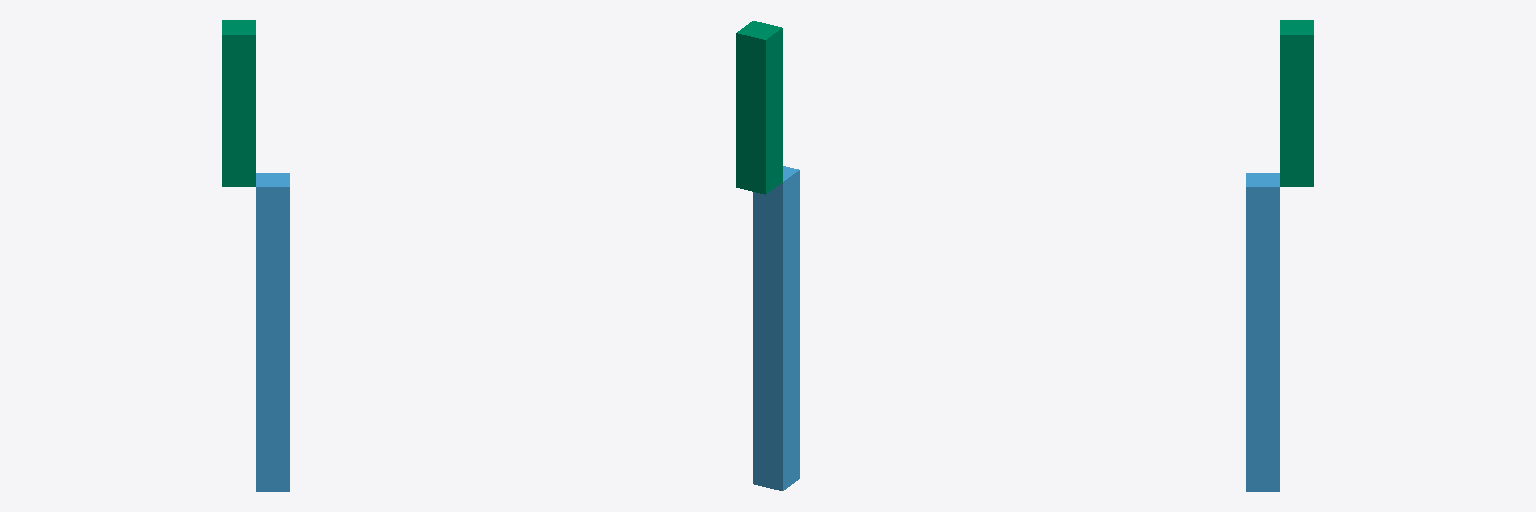
robot.urdf — arm_robot:
<?xml version="1.0"?>
<robot name="arm_robot">

  <link name="world"/>
  <joint name="base_joint" type="fixed">
    <parent link="world"/>
    <child link="base_link"/> 
  </joint>

  <link name="base_link">
    <inertial>
      <origin xyz="0 0 0.5" rpy="0 0 0"/>
      <mass value="1.0"/>
      <inertia ixx="1.0" ixy="0.0" ixz="0.0" iyy="1.0" iyz="0.0" izz="1.0"/>
    </inertial>
    <visual>
      <origin xyz="0 0 0.5" rpy="0 0 0"/>
      <geometry>
        <box size="0.1 0.1 1.0"/>
      </geometry>
    </visual>
    <collision>
      <origin xyz="0 0 0.5" rpy="0 0 0"/>
      <geometry>
        <box size="0.1 0.1 1.0"/>
      </geometry>
    </collision>
  </link>
  <gazebo reference="base_link">
    <material>Gazebo/Red</material>
  </gazebo>

  <joint name="arm1_joint" type="continuous">
    <parent link="base_link"/>
    <child link="arm1_link"/>
    <axis xyz="0 1 0"/>
    <origin xyz="0 0.1 1.0" rpy="0 0 0"/>
    <dynamics damping="0.1"/>
  </joint>
  <transmission name="arm1_trans">
    <type>transmission_interface/SimpleTransmission</type>
    <joint name="arm1_joint">
      <hardwareInterface>hardware_interface/EffortJointInterface</hardwareInterface>
    </joint>
    <actuator name="arm1_motor">
       <hardwareInterface>hardware_interface/EffortJointInterface</hardwareInterface>
       <mechanismReduction>1</mechanismReduction>
    </actuator>
  </transmission>

  <link name="arm1_link">
    <inertial>
      <mass value="1.0"/>
      <origin xyz="0 0 0.25" rpy="0 0 0"/>
      <inertia ixx="1.0" ixy="0.0" ixz="0.0" iyy="1.0" iyz="0.0" izz="1.0"/>
    </inertial>
    <visual>
      <origin xyz="0 0 0.25" rpy="0 0 0"/>
      <geometry>
        <box size="0.1 0.1 0.5"/>
      </geometry>
    </visual>
    <collision>
      <origin xyz="0 0 0.25" rpy="0 0 0"/>
      <geometry>
        <box size="0.1 0.1 0.5"/>
      </geometry>
    </collision>
  </link>
  <gazebo reference="arm1_link">
    <material>Gazebo/Blue</material>
  </gazebo>

  <gazebo>
    <plugin name="gazebo_ros_control" filename="libgazebo_ros_control.so">
      <robotNamespace>/arm_robot</robotNamespace>
      <robotSimType>gazebo_ros_control/DefaultRobotHWSim</robotSimType>
      <legacyModeNS>true</legacyModeNS>
    </plugin>
  </gazebo>
</robot>

--- Render facts (derived) ---
Views: 3 orthographic renders of the robot side by side, from view 1: azimuth 90°, elevation 25°; view 2: azimuth 150°, elevation 25°; view 3: azimuth 270°, elevation 25°.
Robot: arm_robot — 3 links, 2 joints (1 continuous, 1 fixed); root link world; default pose: all joints at 0.
Visible links, largest first — view 1: base_link, arm1_link; view 2: base_link, arm1_link; view 3: base_link, arm1_link.
Boxes of the visible links, x1,y1,x2,y2 form: base_link: [256, 173, 289, 491]; arm1_link: [222, 20, 255, 186]; base_link: [753, 166, 799, 490]; arm1_link: [736, 21, 782, 194]; base_link: [1246, 173, 1279, 491]; arm1_link: [1280, 20, 1313, 186].
Size in the robot's own frame: 0.1 by 0.2 by 1.5 metres.
Geometry: primitives only (box / cylinder / sphere), no mesh files.